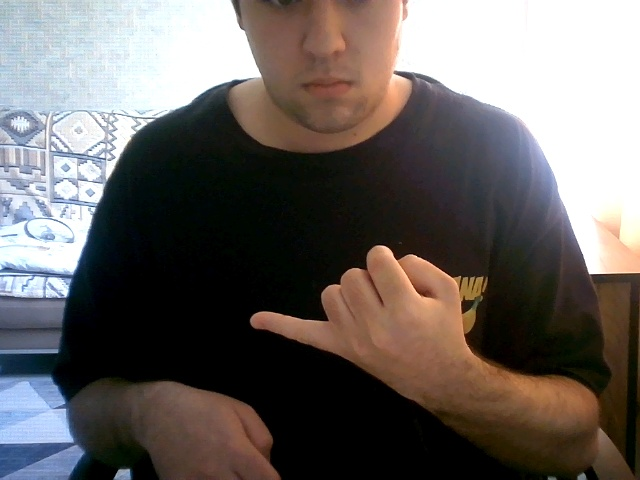bad: (240, 216, 495, 389)
